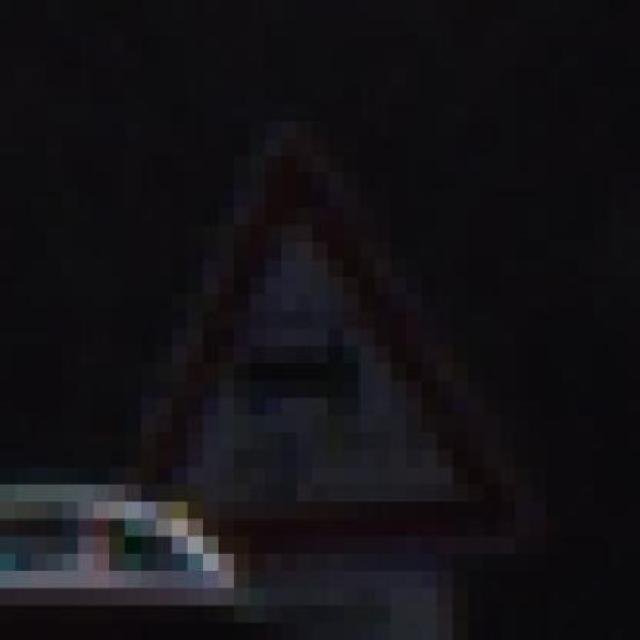Slippery Road Ahead: (62, 120, 547, 572)
